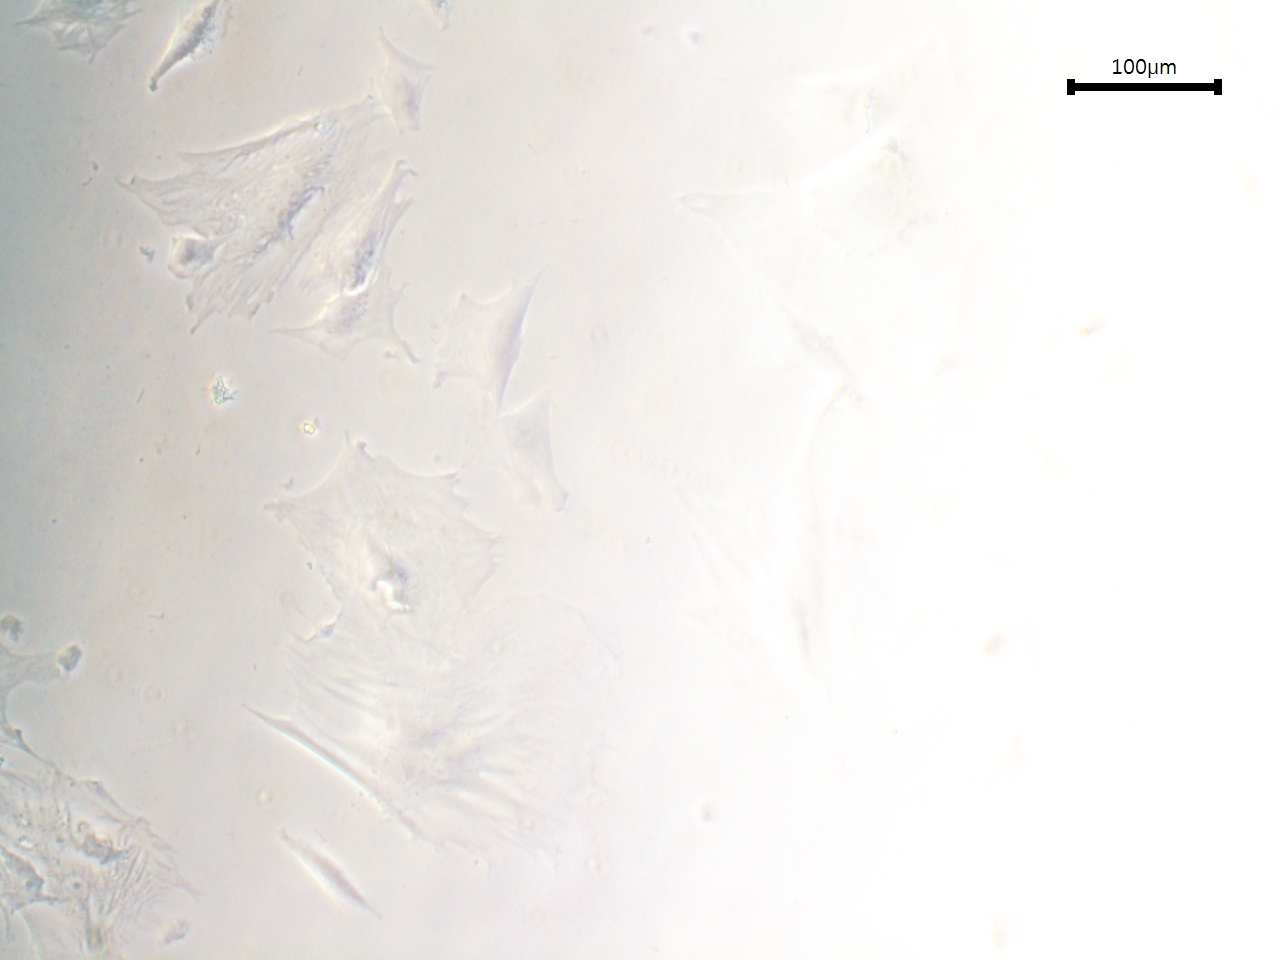medium-polygonal: (270, 820, 386, 934)
medium-spread: (143, 1, 243, 92)
